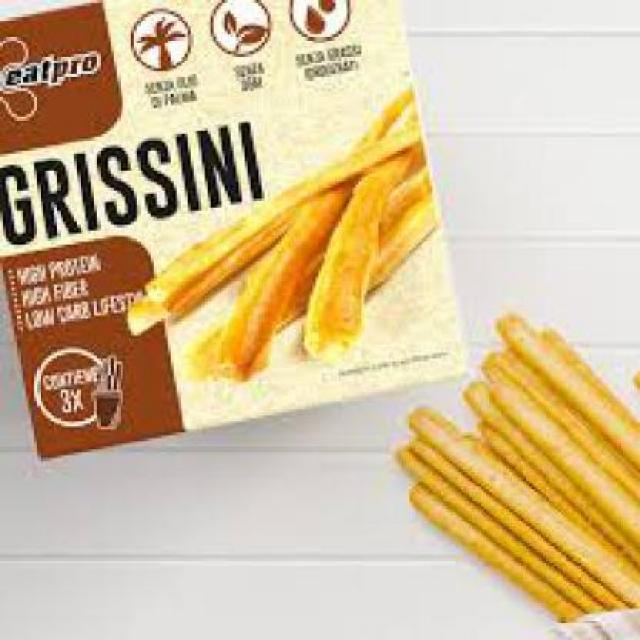Grissini: (398, 313, 638, 609)
